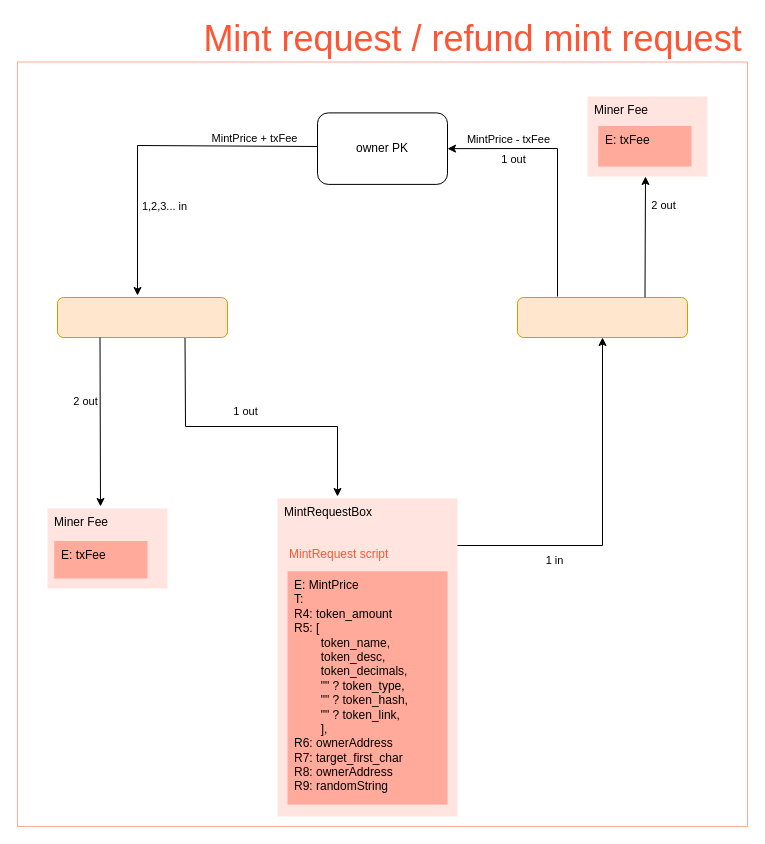
Image size: 765x844. Some labels were removed from this diagram. Here are the shapes that lost their labels. From the top down, the centre of each, then its label:
At (x=142, y=317): "Mint request".
At (x=602, y=317): "Refund".
